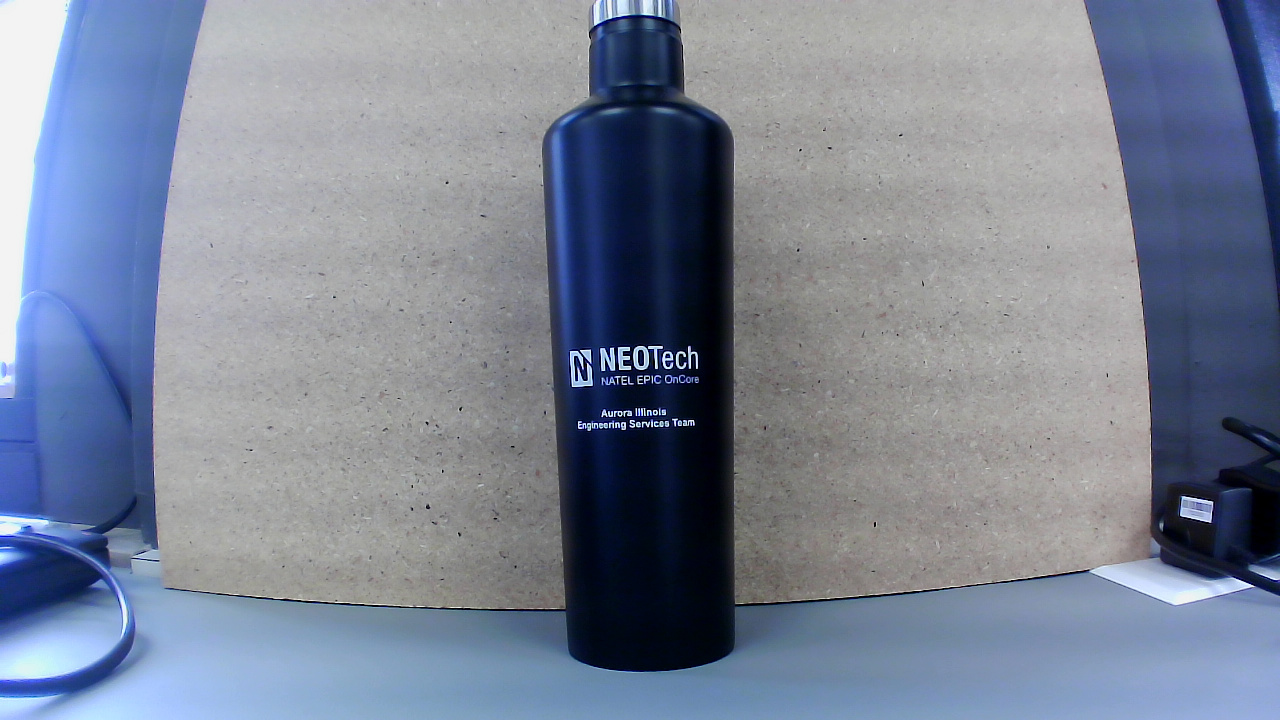neobottle: (535, 3, 752, 681)
